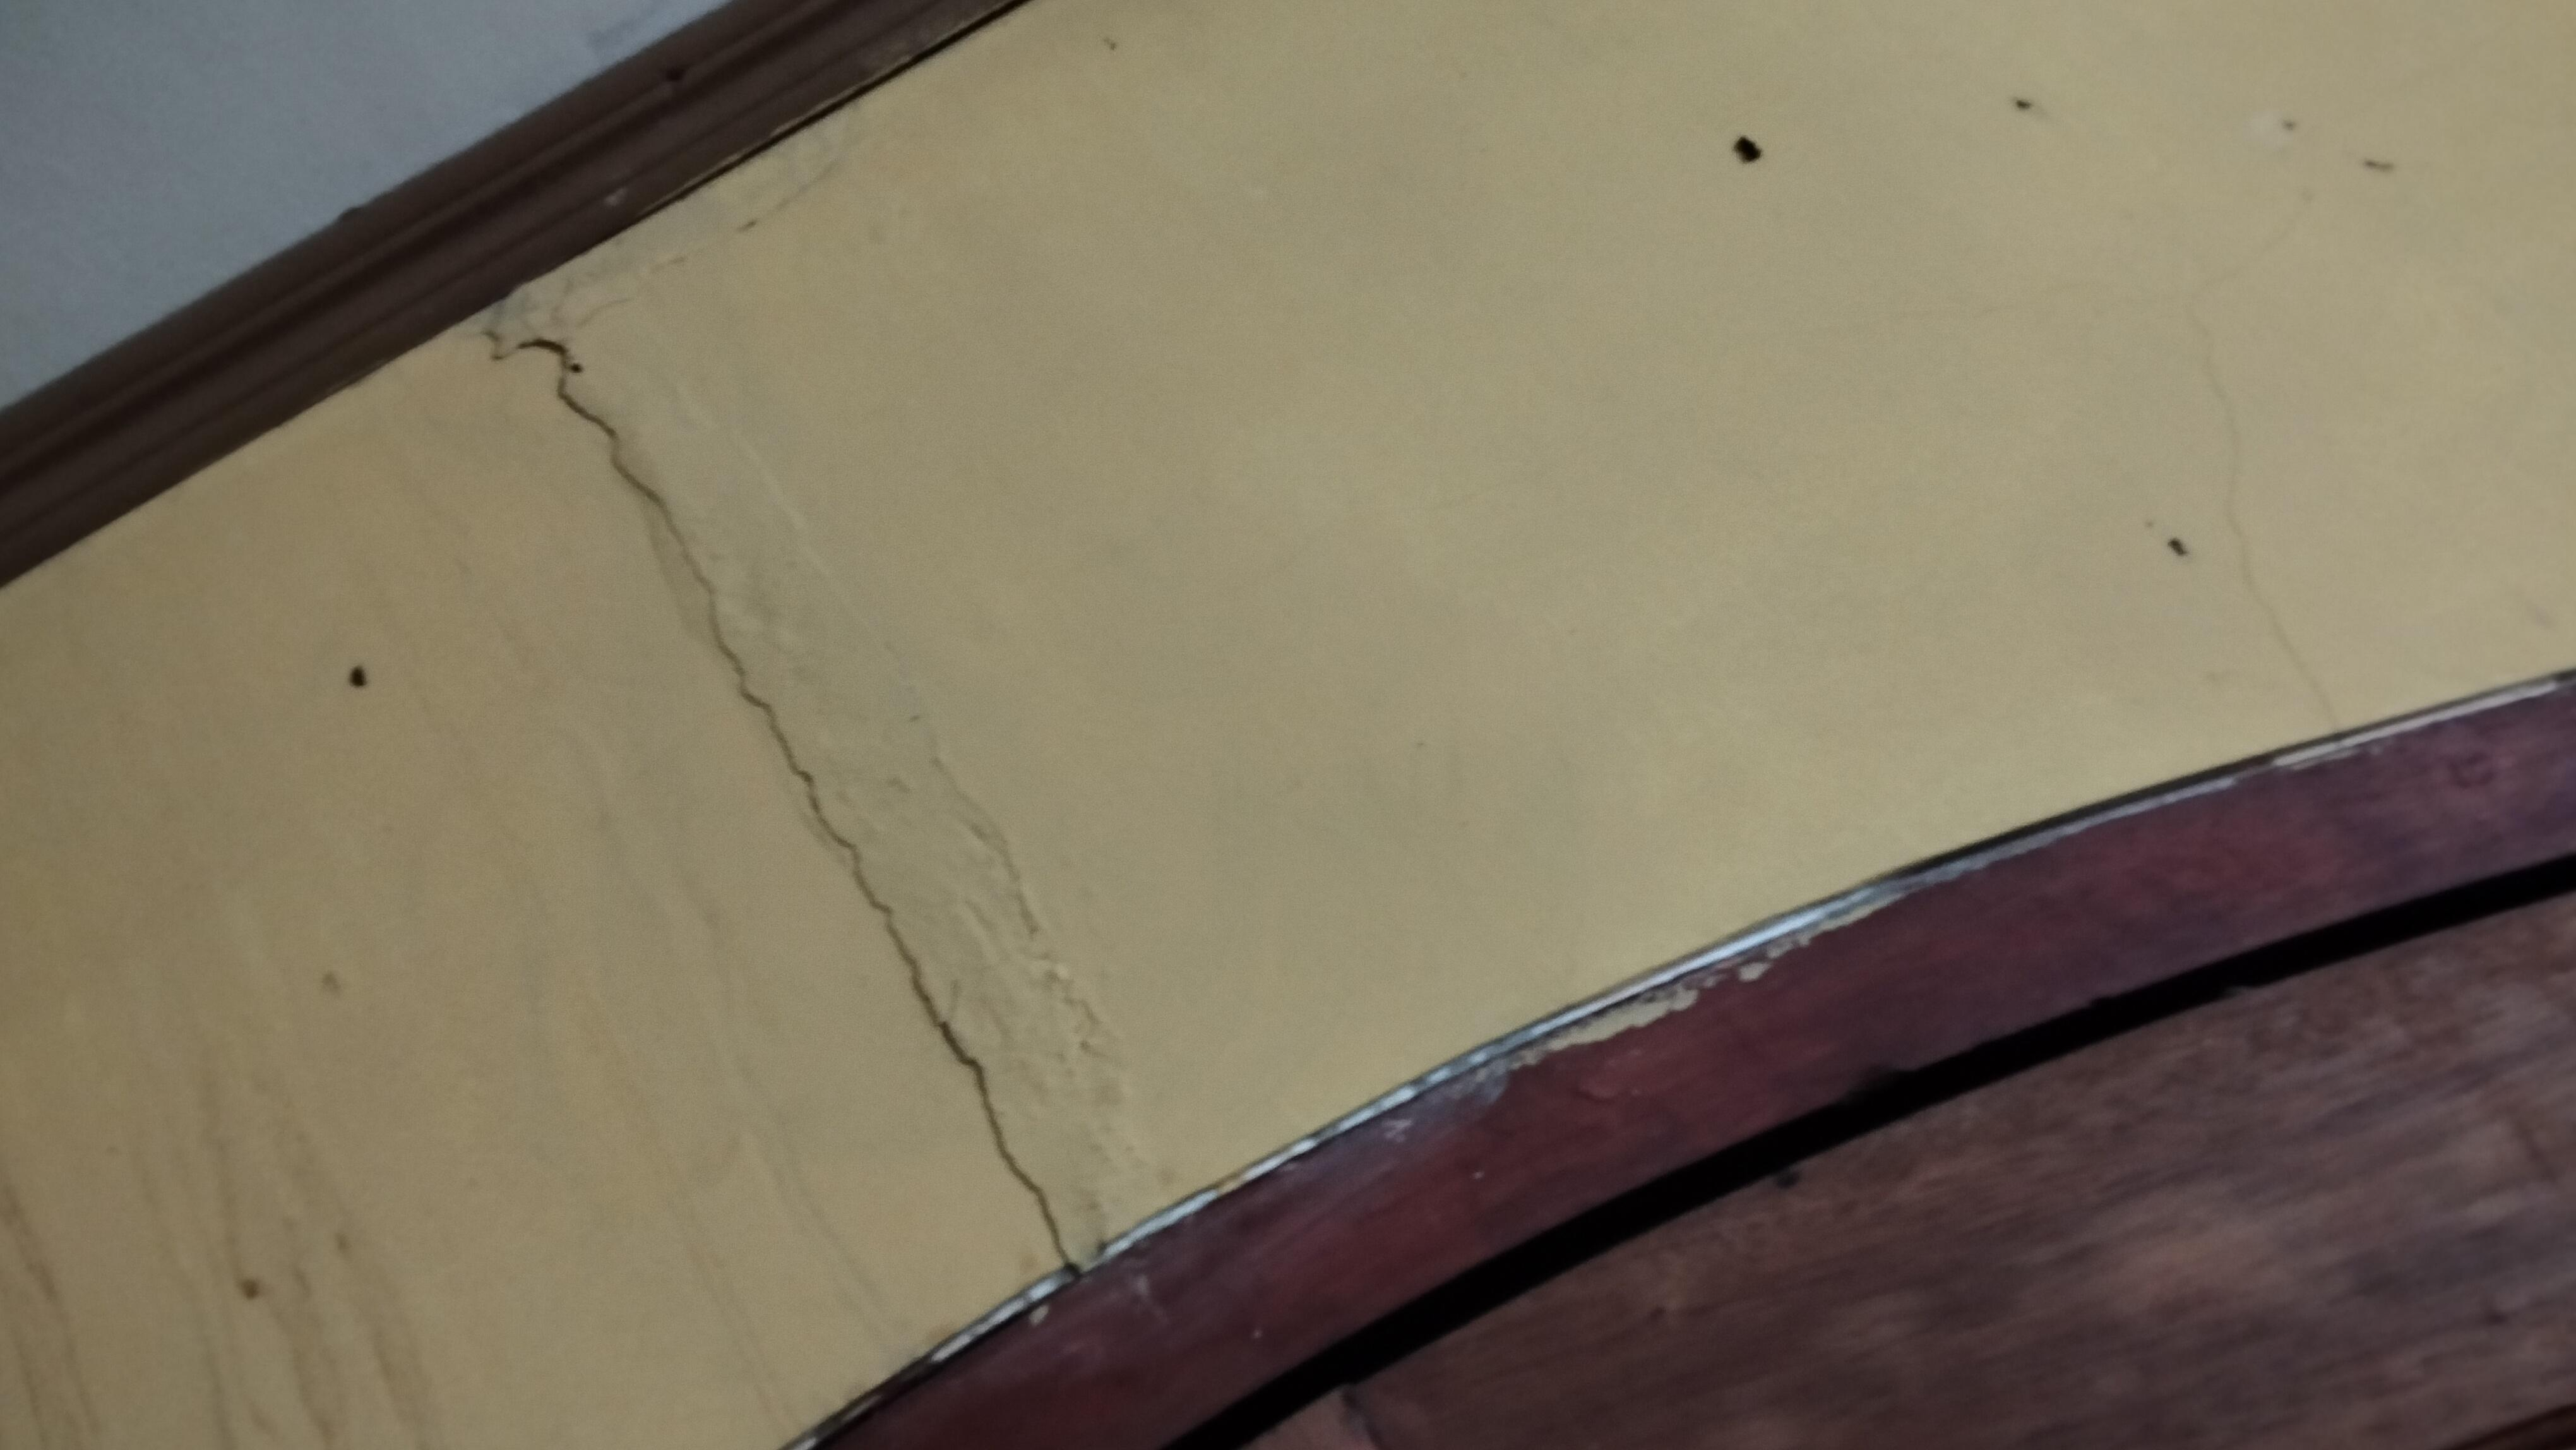Crack: (479, 297, 1099, 1294)
